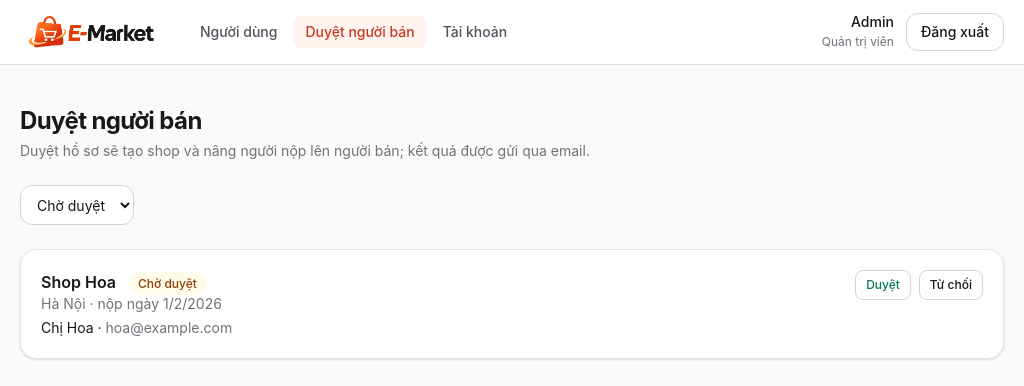
Test: Admin duyệt người bán › duyệt hồ sơ: gọi API, hồ sơ rời khỏi danh sách chờ
Click the button with aria-label "Duyệt hồ sơ Shop Hoa". click: point(883, 285)
box: 855,270 -> 911,300
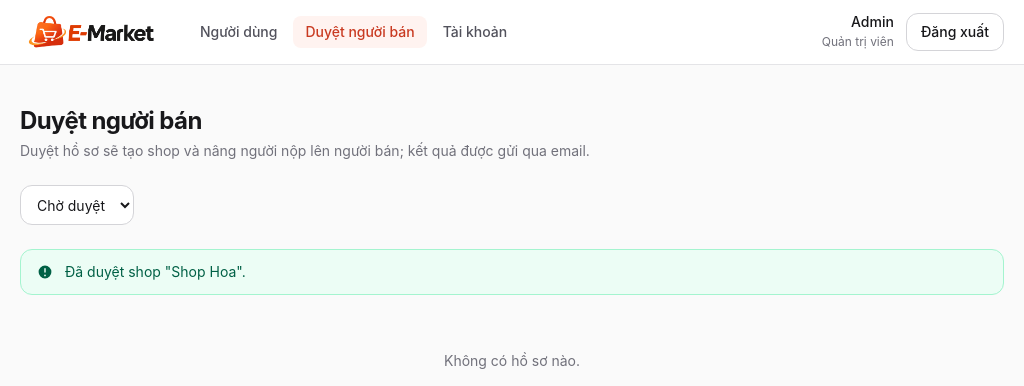
Expected: the text "Đã duyệt shop \"Shop Hoa\"." is shown, 65,262 -> 246,282
